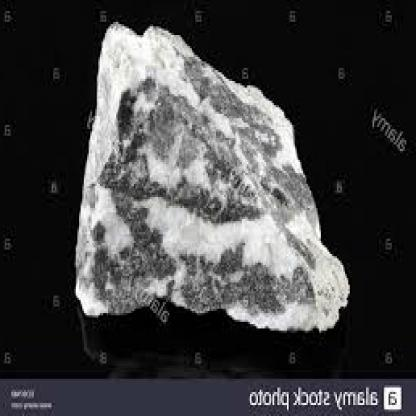Metamorphic_Marble: (58, 13, 356, 340)
